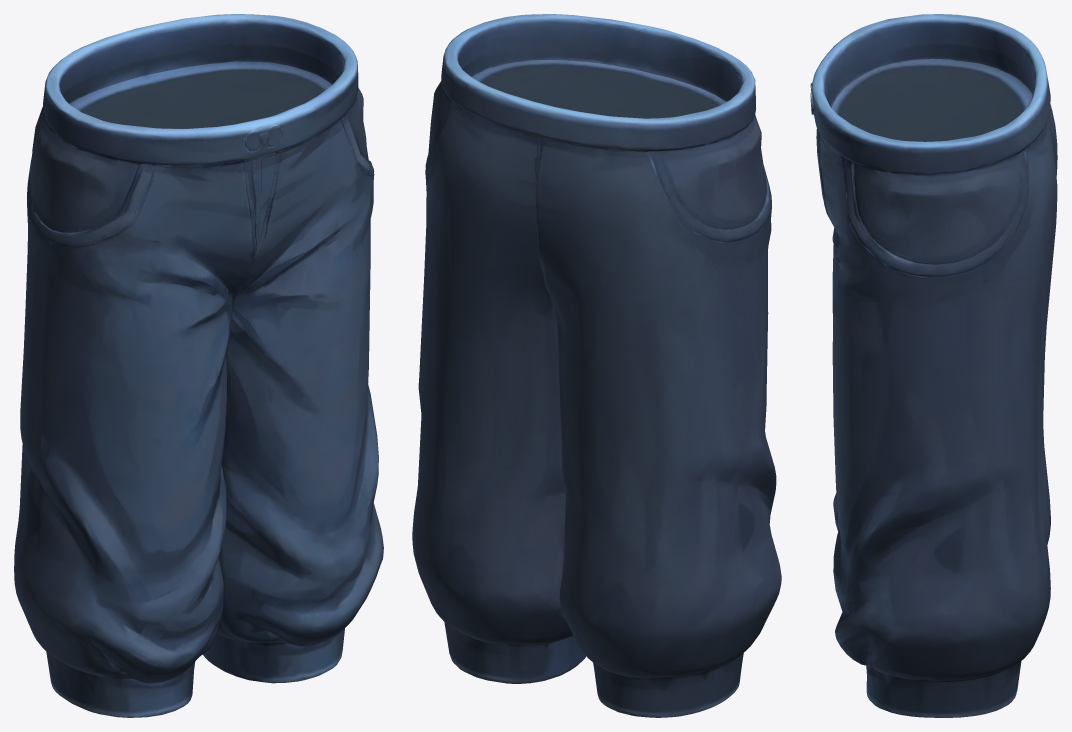
The model's file is berserk_m_trousers.glb.
The picture shows the model from 3 angles, left to right: view 1: azimuth 30°, elevation 25°; view 2: azimuth 150°, elevation 25°; view 3: azimuth 270°, elevation 25°; orthographic projection. The views are drawn at different scales.
Parts seen in each view (by area): view 1: model; view 2: model; view 3: model.
Part boxes in pixels (bbox=[...]): model: bbox=[14, 14, 383, 717]; model: bbox=[412, 14, 781, 717]; model: bbox=[810, 14, 1057, 717].
Size of the model in its own units: 0.4168 by 0.7199 by 0.276.
Materials: 1 (1 with a texture image).
